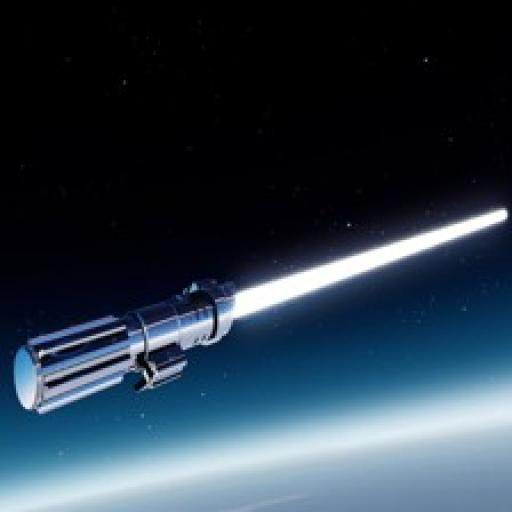lightsaber: (8, 202, 510, 421)
